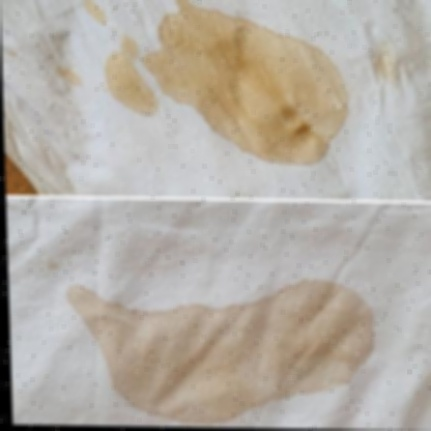coffee: (97, 310, 354, 394), (223, 54, 327, 128), (161, 18, 221, 92)
